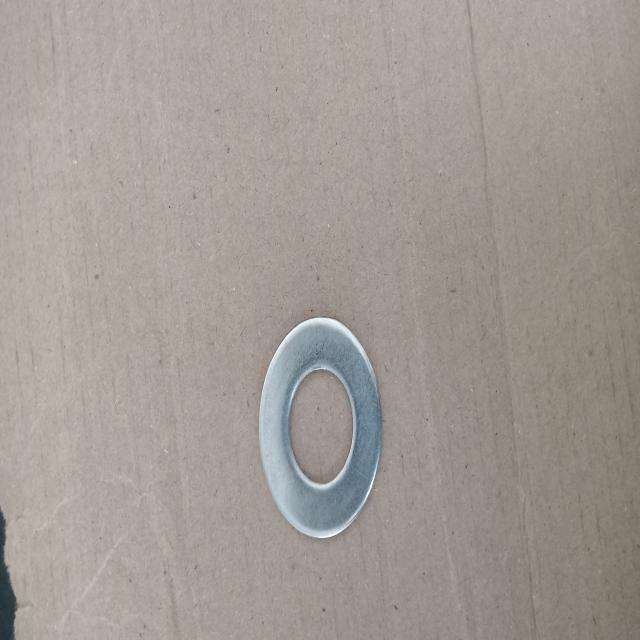washer: (259, 317, 382, 539)
